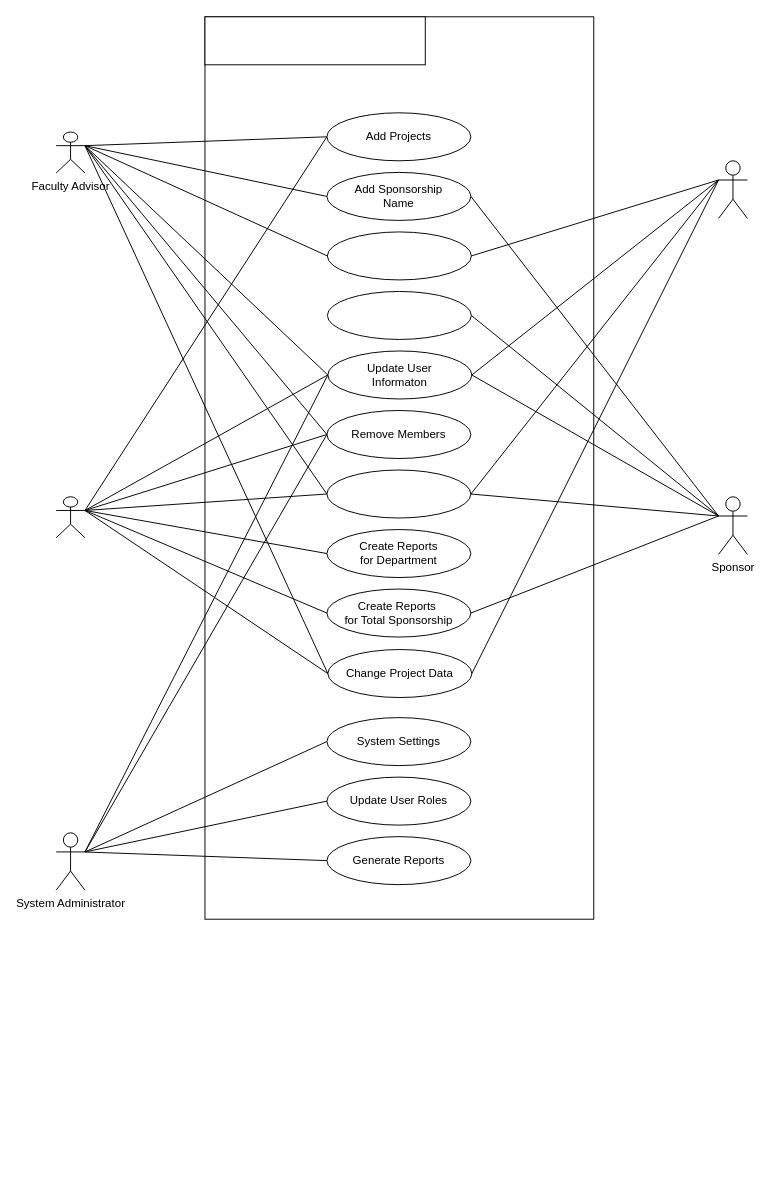
Image size: 780x1191. Some labels were removed from this diagram. The centre of each missing label's shape, as x and y in pixels:
"Create Reports Specific for Project" belongs at point 398,493.
"Fund Projects" belongs at point 398,314.
"Join Projects" belongs at point 398,255.
"Program Director" belongs at point 70,517.
"Research Management System" belongs at point 314,40.
"Researcher" belongs at point 732,189.
